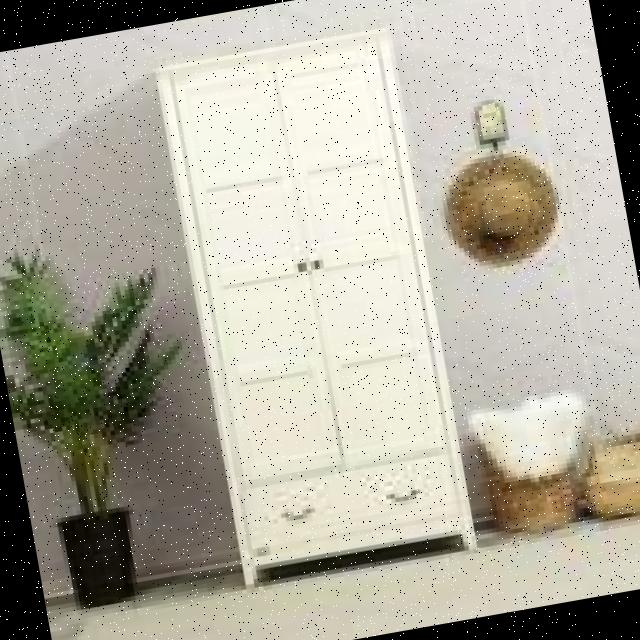Closet: (124, 12, 497, 606)
